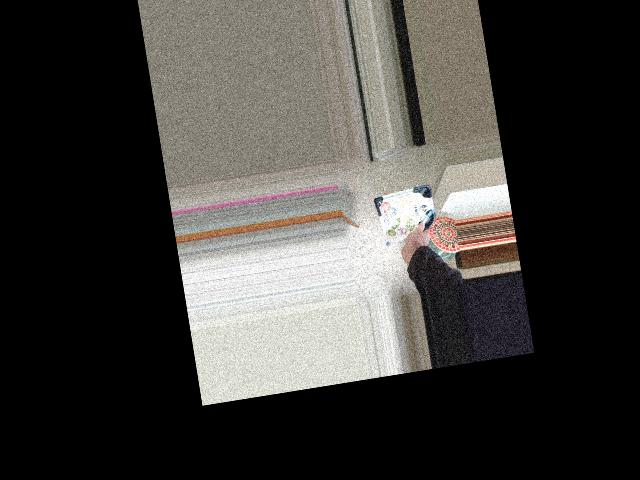cheese: (375, 196, 441, 263)
